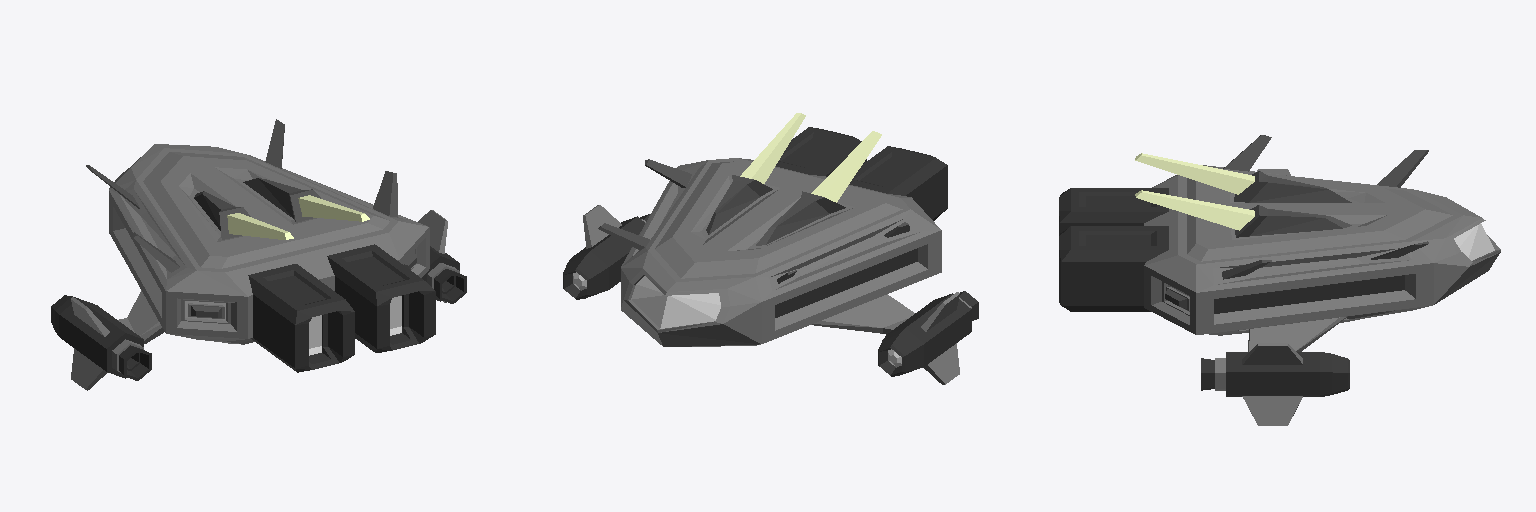
3 renders of one model, left to right at view 1: azimuth 30°, elevation 25°; view 2: azimuth 150°, elevation 25°; view 3: azimuth 270°, elevation 25°, orthographic.
Parts seen in each view (by area): view 1: Cube.002_Cube.003; view 2: Cube.002_Cube.003; view 3: Cube.002_Cube.003.
Part boxes in pixels (left/top/right/bottom): Cube.002_Cube.003: left=51, top=119, right=466, bottom=390; Cube.002_Cube.003: left=563, top=113, right=978, bottom=384; Cube.002_Cube.003: left=1059, top=135, right=1500, bottom=425.
Bounding box in the file's own units: 8.74 × 3.83 × 9.22.
2 materials, 1 textured.